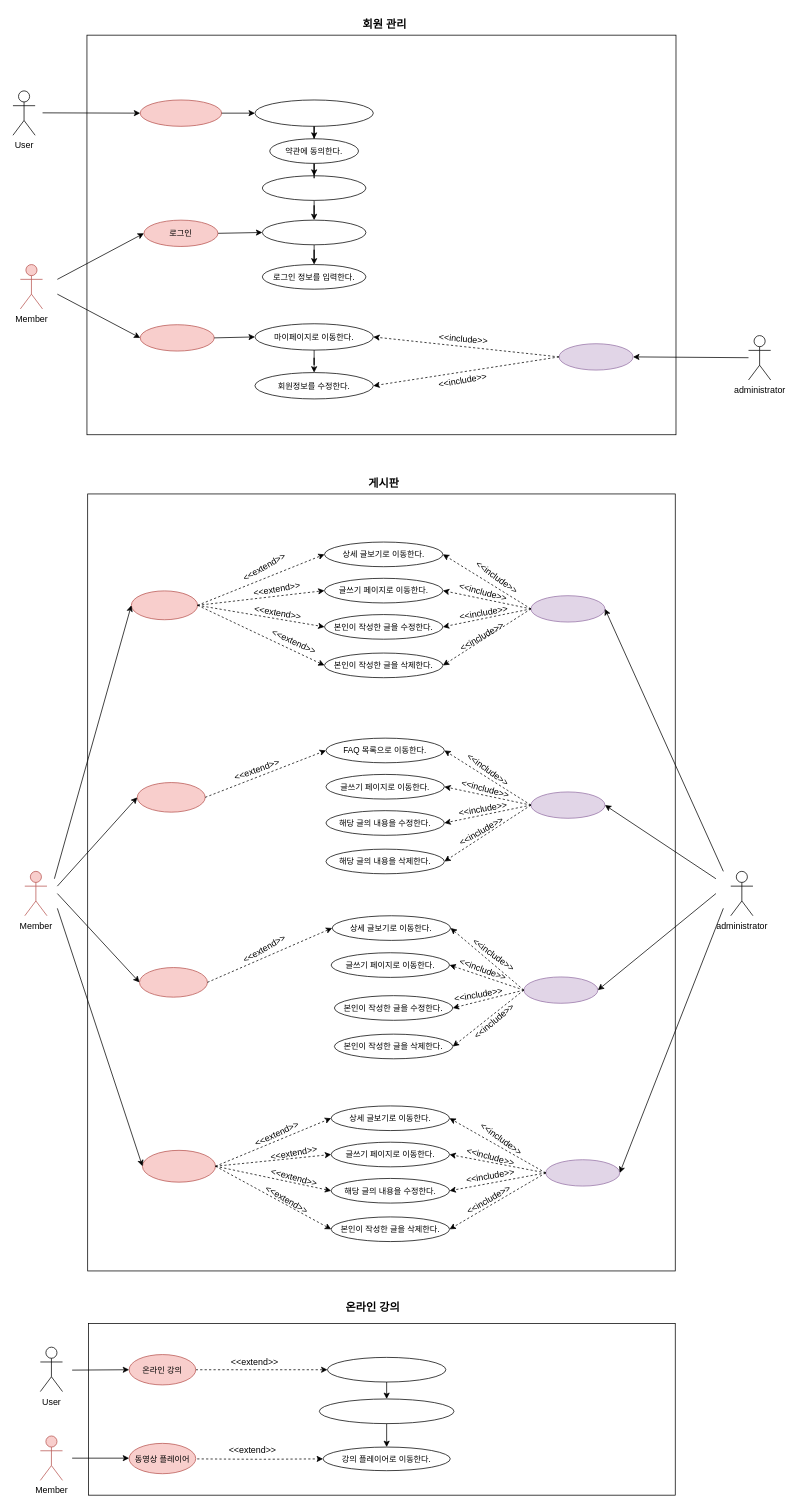
The diagram is 798 pixels wide and 1508 high, and some of its shapes have lost their labels. Here are the shapes that lost their labels. From the top down, the centre of each, then its label:
the point at 180,112: 회원가입
the point at 313,112: 회원가입 페이지로 이동한다.
the point at 314,187: 회원정보를 입력한다.
the point at 314,232: 로그인 페이지로 이동한다.
the point at 176,337: 마이페이지
the point at 595,356: 회원관리
the point at 164,605: 커뮤니티
the point at 567,608: 커뮤니티 관리
the point at 171,797: FAQ
the point at 567,804: FAQ 관리
the point at 173,982: 공지사항
the point at 560,989: 공지사항 관리
the point at 178,1166: QnA
the point at 582,1172: QnA 관리
the point at 386,1369: 강의 목록 페이지로 이동한다.
the point at 386,1411: 강의 상세 보기 페이지로 이동한다.
